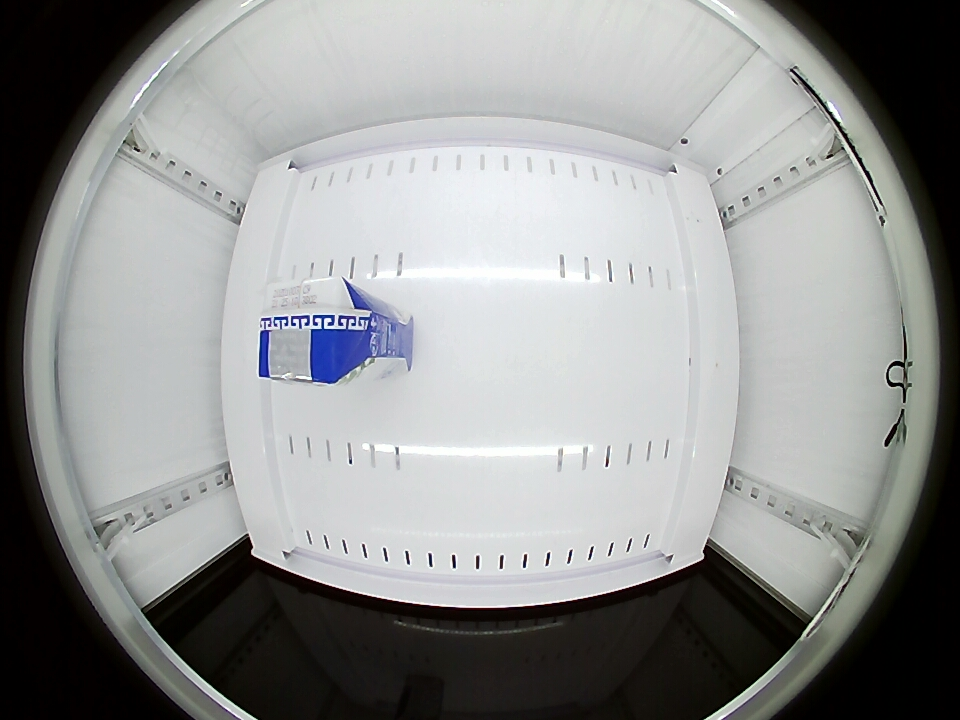anmuxi: (258, 277, 371, 385)
